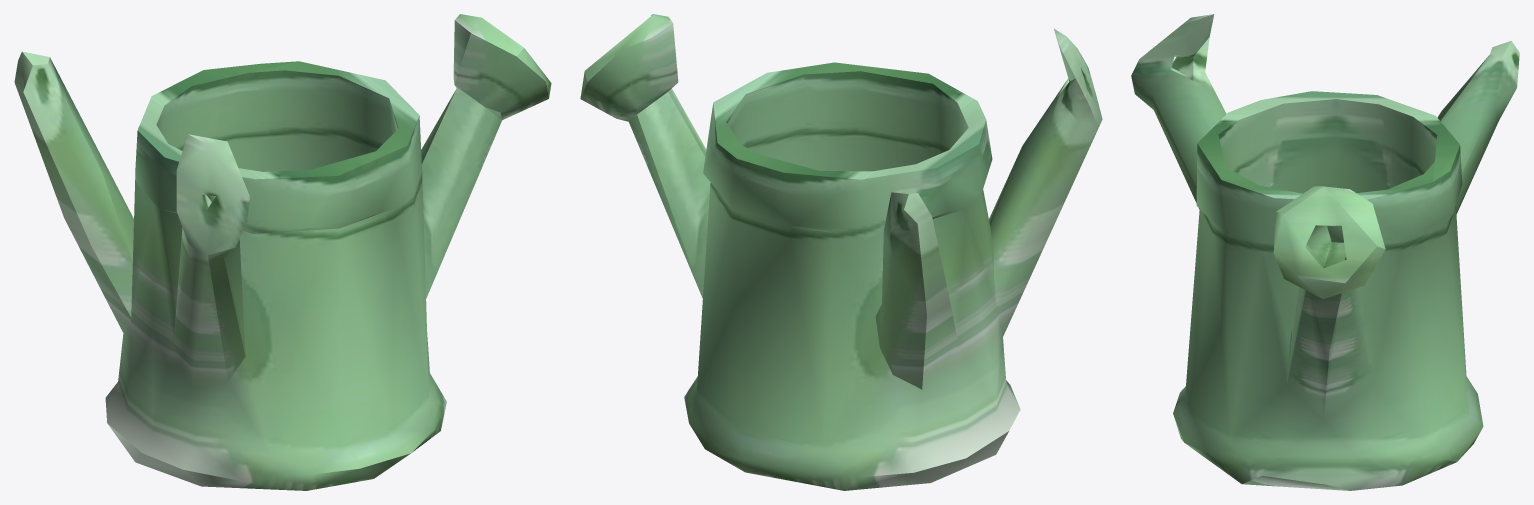
The picture shows the model from 3 angles, left to right: view 1: azimuth 30°, elevation 25°; view 2: azimuth 150°, elevation 25°; view 3: azimuth 270°, elevation 25°; orthographic projection. The views are drawn at different scales.
Parts seen in each view (by area): view 1: Decor_watering_can; view 2: Decor_watering_can; view 3: Decor_watering_can.
Boxes of the visible parts, <box> form: Decor_watering_can: <box>14,14,551,490</box>; Decor_watering_can: <box>580,14,1102,490</box>; Decor_watering_can: <box>1131,14,1519,490</box>.
Bounding box in the file's own units: 0.4206 × 0.3469 × 0.3505.
Materials: 1 (1 with a texture image).
